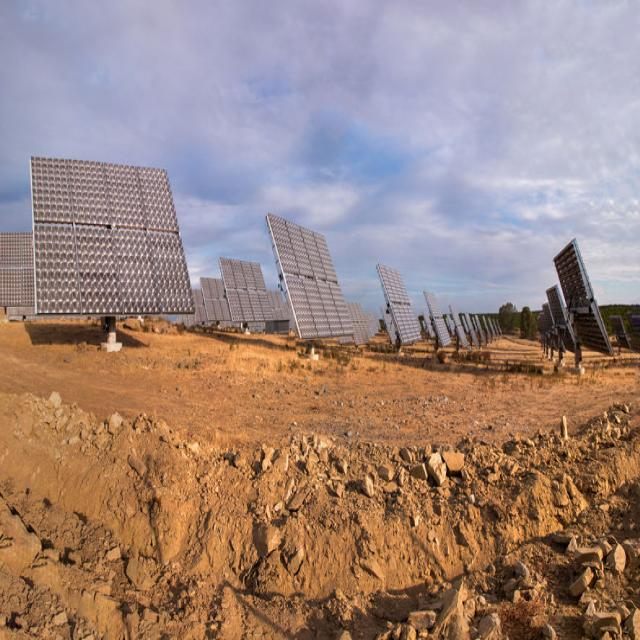dust-solar-panel: (30, 156, 194, 320), (266, 214, 355, 343), (220, 257, 274, 322), (377, 265, 421, 340)
